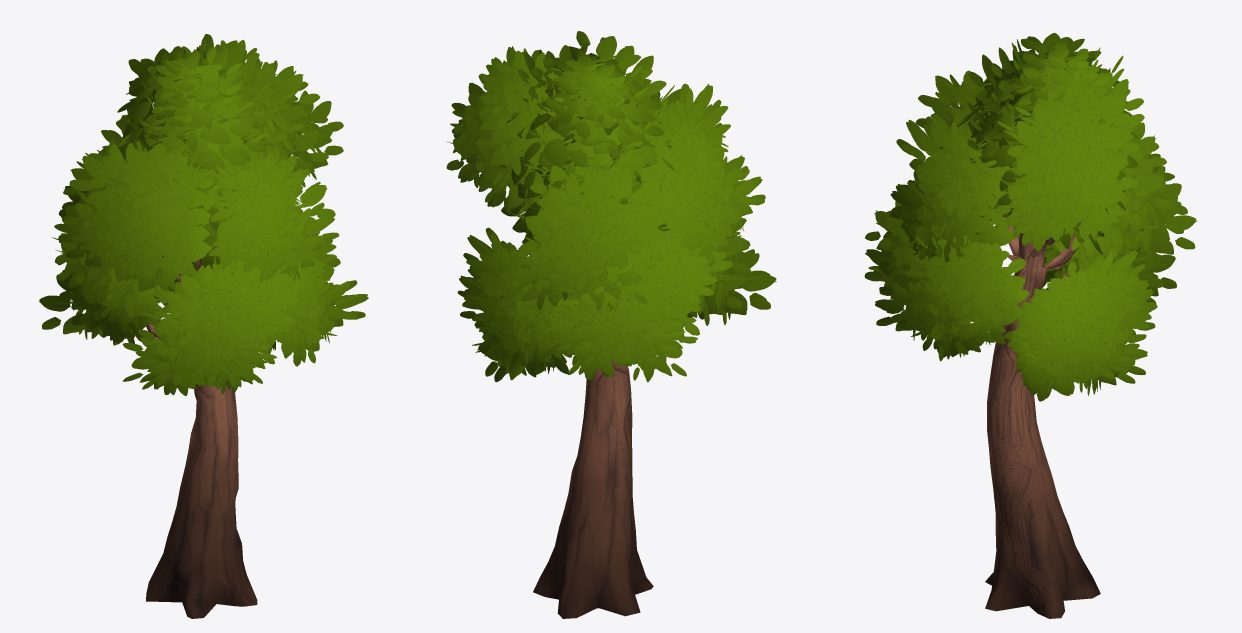
Rendered from tree-broadleaf.glb.
3 views of the same model, side by side, from view 1: azimuth 30°, elevation 25°; view 2: azimuth 150°, elevation 25°; view 3: azimuth 270°, elevation 25° (orthographic). The views are drawn at different scales.
Parts seen in each view (by area): view 1: CommonTree_1; view 2: CommonTree_1; view 3: CommonTree_1.
Part boxes in pixels (bbox=[...]): CommonTree_1: bbox=[39, 34, 368, 618]; CommonTree_1: bbox=[446, 31, 776, 618]; CommonTree_1: bbox=[864, 33, 1197, 618].
Bounding box in the file's own units: 4.31 × 7.26 × 4.58.
2 materials, 2 textured.
